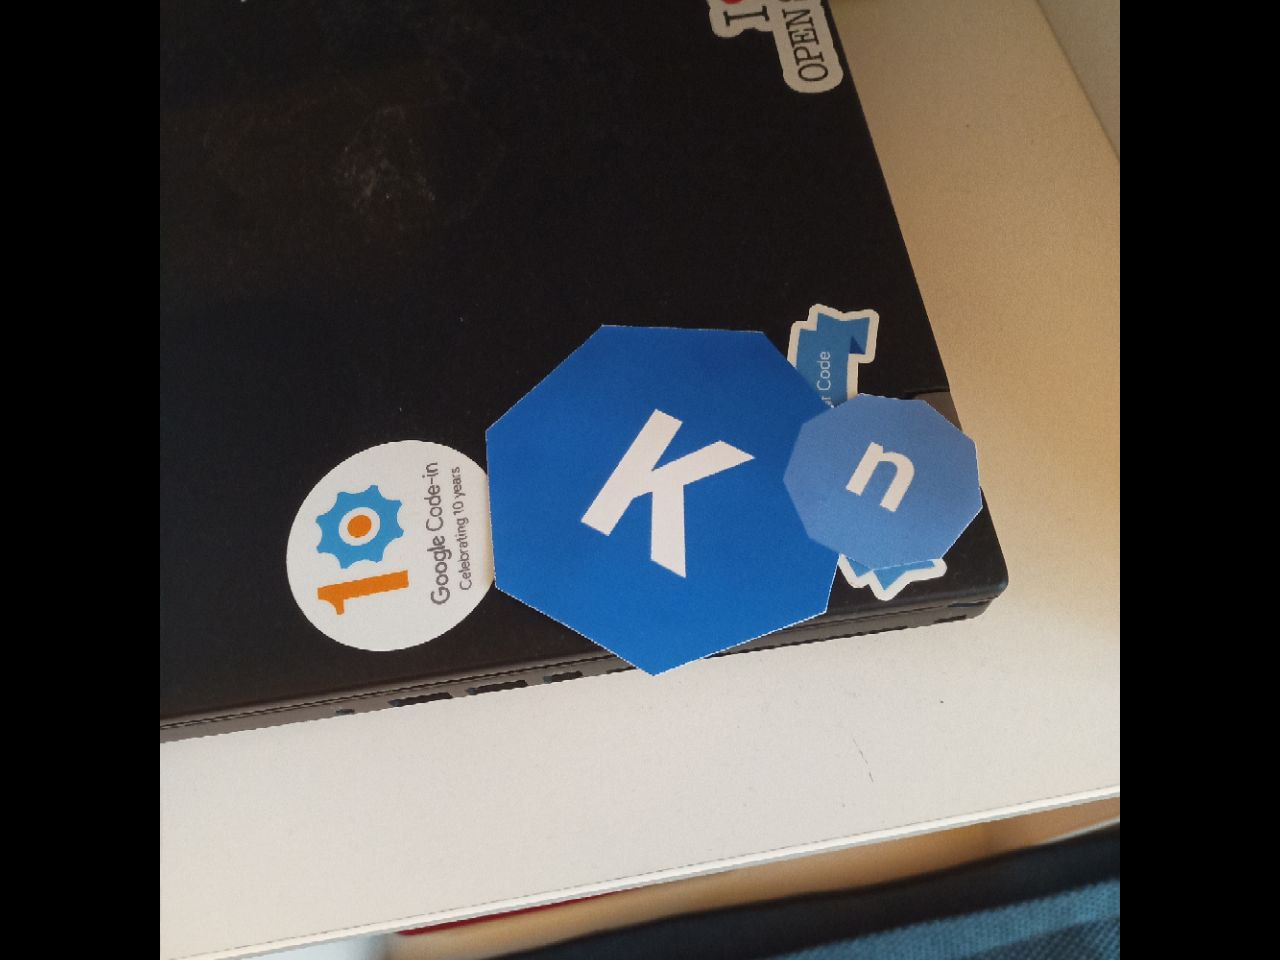knative: (487, 324, 981, 675)
